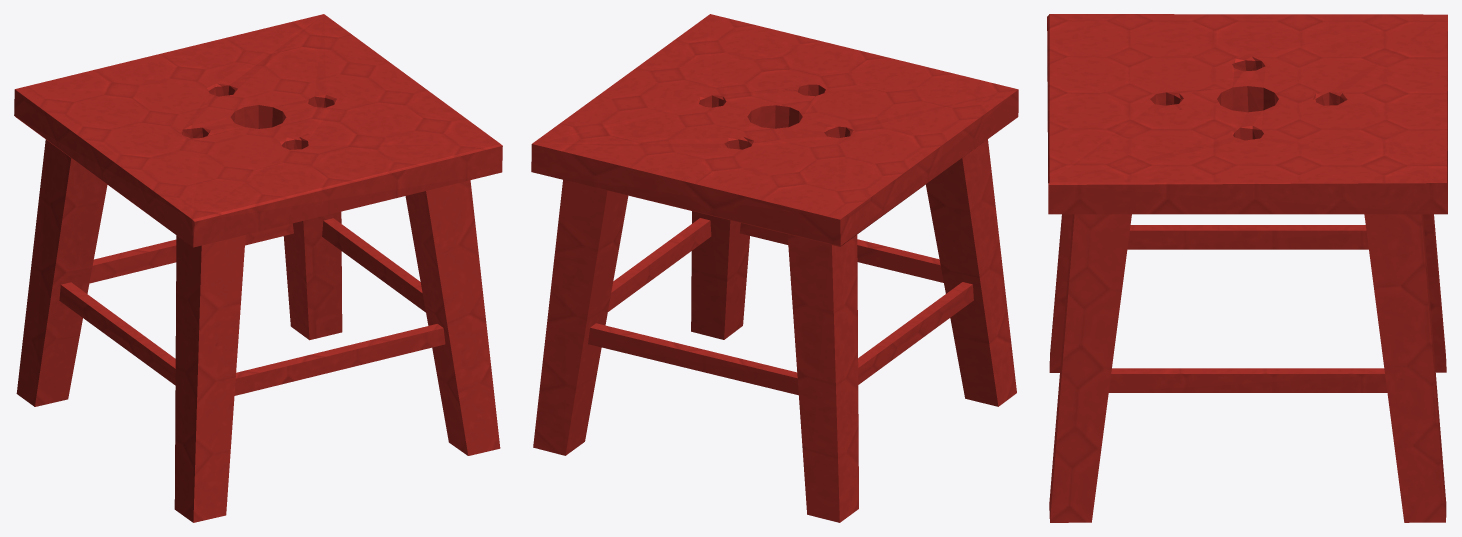
Rendered from ghe_nhua_do_lod1.glb.
3 renders of one model, left to right at view 1: azimuth 30°, elevation 25°; view 2: azimuth 150°, elevation 25°; view 3: azimuth 270°, elevation 25°, orthographic. The views are drawn at different scales.
Parts seen in each view (by area): view 1: stool; view 2: stool; view 3: stool.
Boxes of the visible parts, x1,y1,x2,y2 form: stool: (14,14,502,522); stool: (531,14,1018,522); stool: (1047,14,1447,522).
Bounding box in the file's own units: 0.319 × 0.2995 × 0.3192.
Materials: 1 (1 with a texture image).
